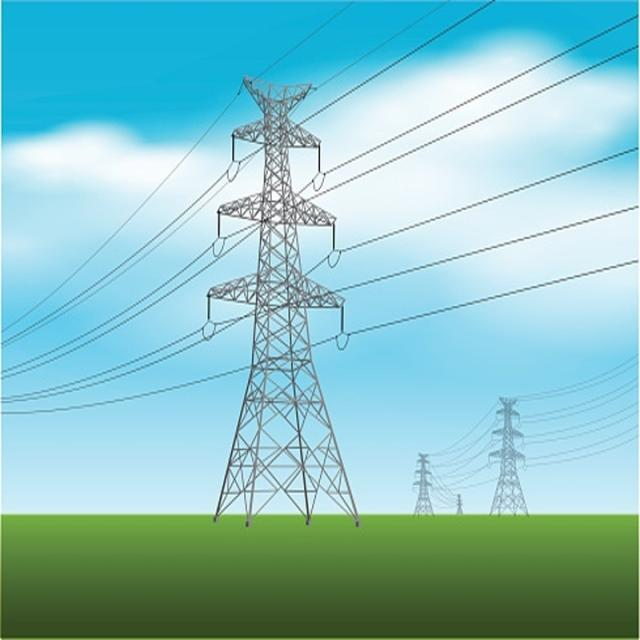non-critical vegetation: (216, 78, 352, 527), (486, 394, 530, 517), (394, 439, 438, 523)
